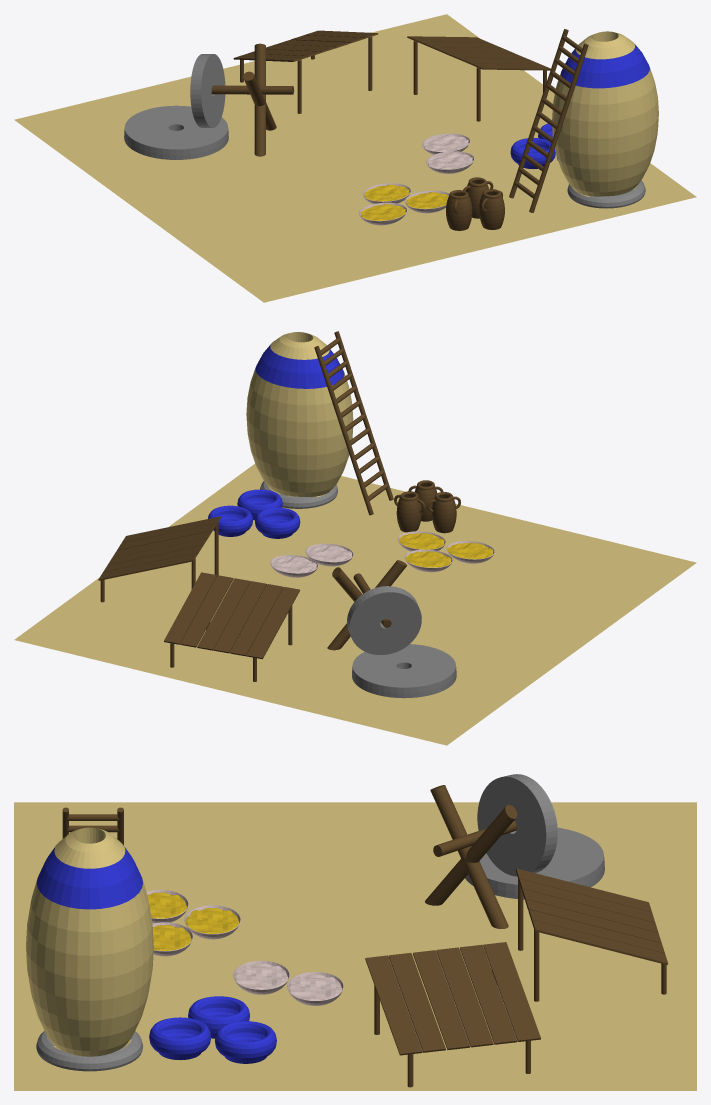
Rendered from Mill.fbx.
The picture shows the model from 3 angles, top to bottom: view 1: azimuth 30°, elevation 25°; view 2: azimuth 150°, elevation 25°; view 3: azimuth 270°, elevation 25°; orthographic projection. The views are drawn at different scales.
Parts seen in each view (by area): view 1: Cylinder; view 2: Cylinder; view 3: Cylinder.
Part boxes in pixels (x1,y1,x2,y2): Cylinder: (14, 14, 696, 302); Cylinder: (14, 331, 696, 745); Cylinder: (14, 774, 696, 1090).
Size of the model in its own units: 15.96 by 6.05 by 15.96.
